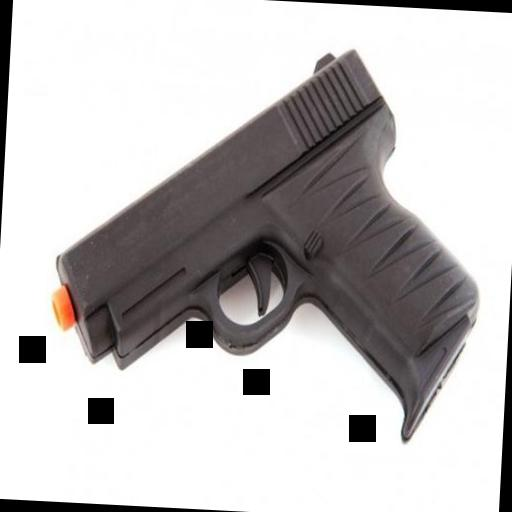Handgun: (34, 32, 492, 458)
